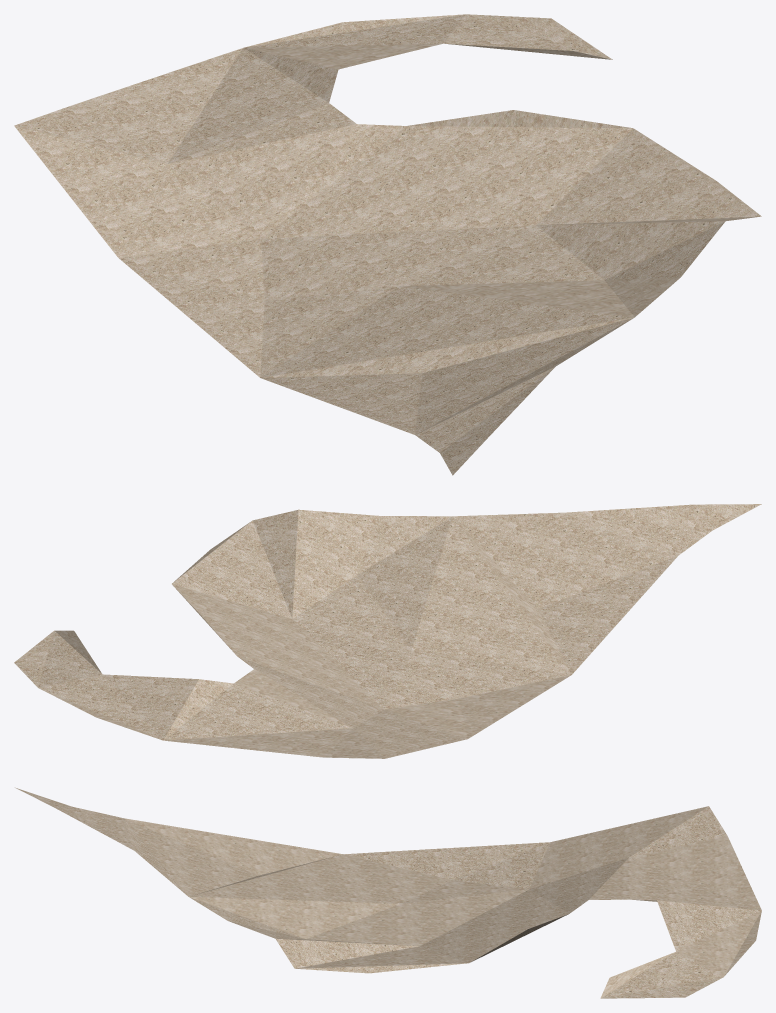
Rendered from LODc_carisle_mid_seabed_05.fbx.
3 renders of one model, top to bottom at view 1: azimuth 30°, elevation 25°; view 2: azimuth 150°, elevation 25°; view 3: azimuth 270°, elevation 25°, orthographic. The views are drawn at different scales.
Visible parts, largest first — view 1: LODc_carisle_mid_seabed_05; view 2: LODc_carisle_mid_seabed_05; view 3: LODc_carisle_mid_seabed_05.
Boxes of the visible parts, x1=… form: LODc_carisle_mid_seabed_05: x1=14, y1=14, x2=761, y2=475; LODc_carisle_mid_seabed_05: x1=14, y1=504, x2=761, y2=758; LODc_carisle_mid_seabed_05: x1=15, y1=787, x2=761, y2=998.
Size of the model in its own units: 42.13 by 66.52 by 6.35.
1 material, 1 textured.
